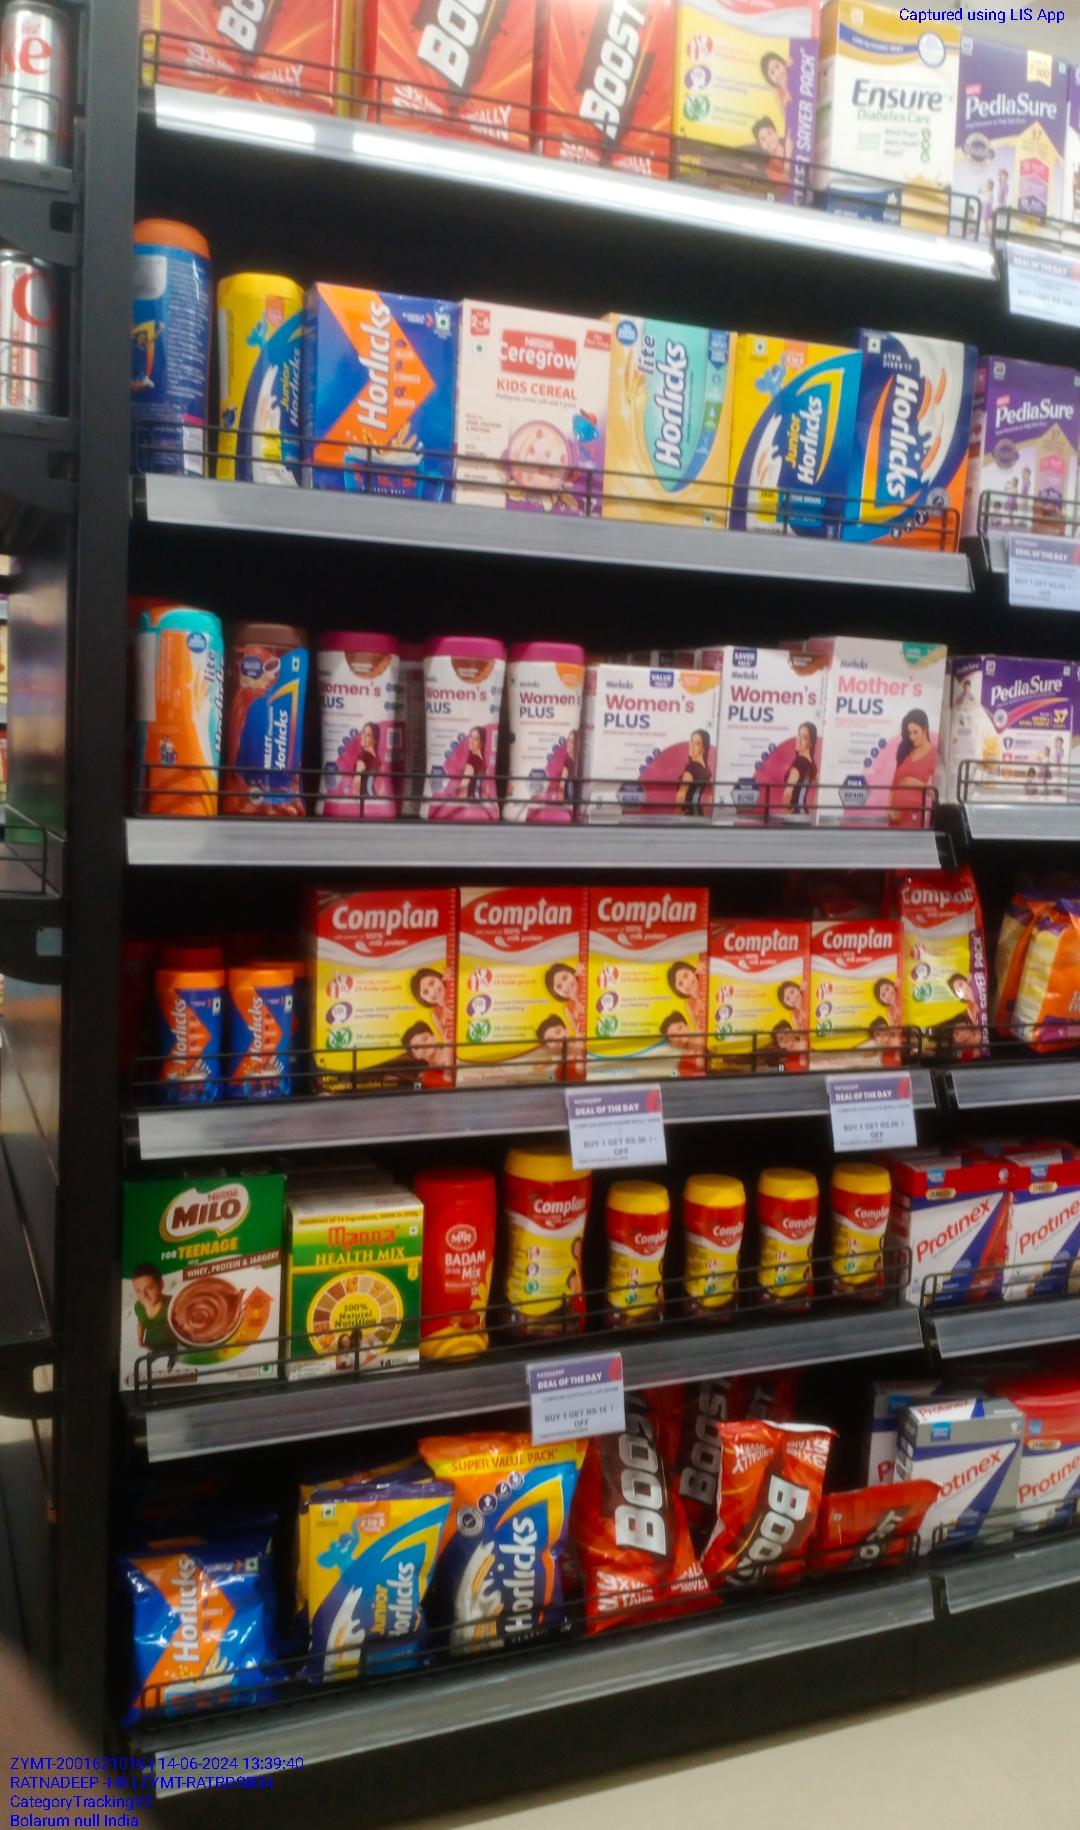COMPLAN_CHOCOLATE_200_GMS_JAR: (606, 1182, 674, 1330), (755, 1177, 819, 1312), (685, 1177, 744, 1321), (829, 1171, 892, 1304)
COMPLAN_CHOCOLATE_200_GMS_PACK: (708, 920, 811, 1076)
COMPLAN_CHOCOLATE_500_GMS_JAR: (501, 1153, 589, 1347)
COMPLAN_CHOCOLATE_500_GMS_PACK: (309, 889, 458, 1095)
COMPLAN_CREAMY_CLASSIC_500_G_PACK: (590, 885, 706, 1079)
COMPLAN_KESAR_BADAM_200_GMS_PACK: (815, 920, 903, 1070)
COMPLAN_KESAR_BADAM_500_GMS_PACK: (459, 885, 586, 1086)
COMPLAN_RC_POUCH_700_GMS_12: (908, 871, 991, 1064)
HORLICK_CLASSIC_MALT_200_G_JAR: (225, 968, 296, 1103), (161, 969, 217, 1112)
HORLICK_CLASSIC_MALT_500_G_PACK: (305, 283, 455, 502)
